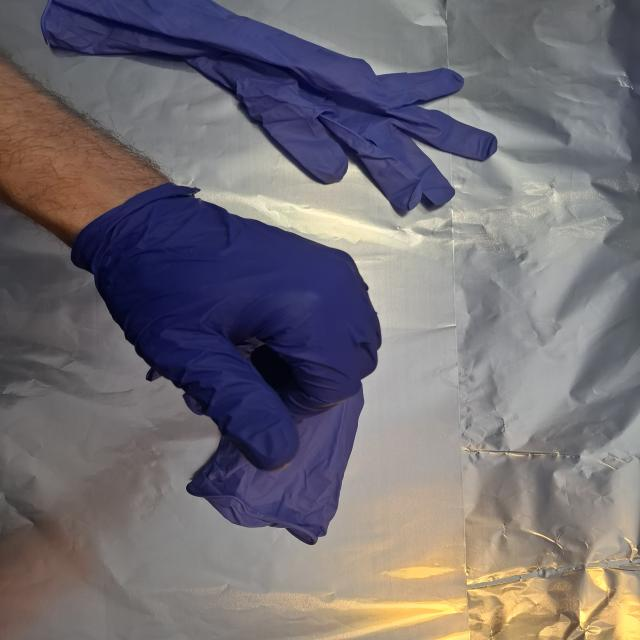glove_on: (74, 181, 387, 475)
